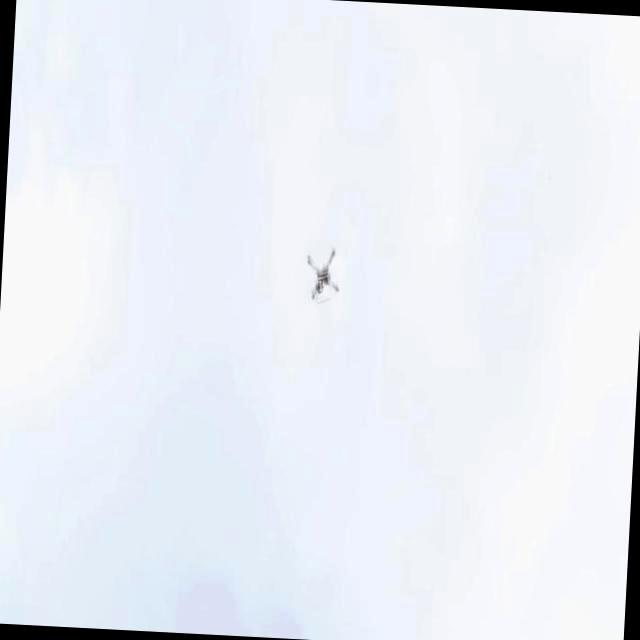drone: (302, 238, 344, 312)
